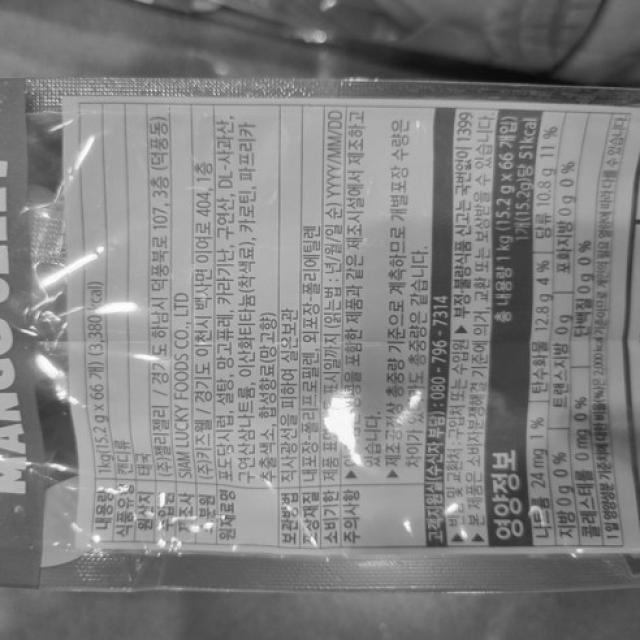Nutrition Label: (486, 100, 640, 562)
